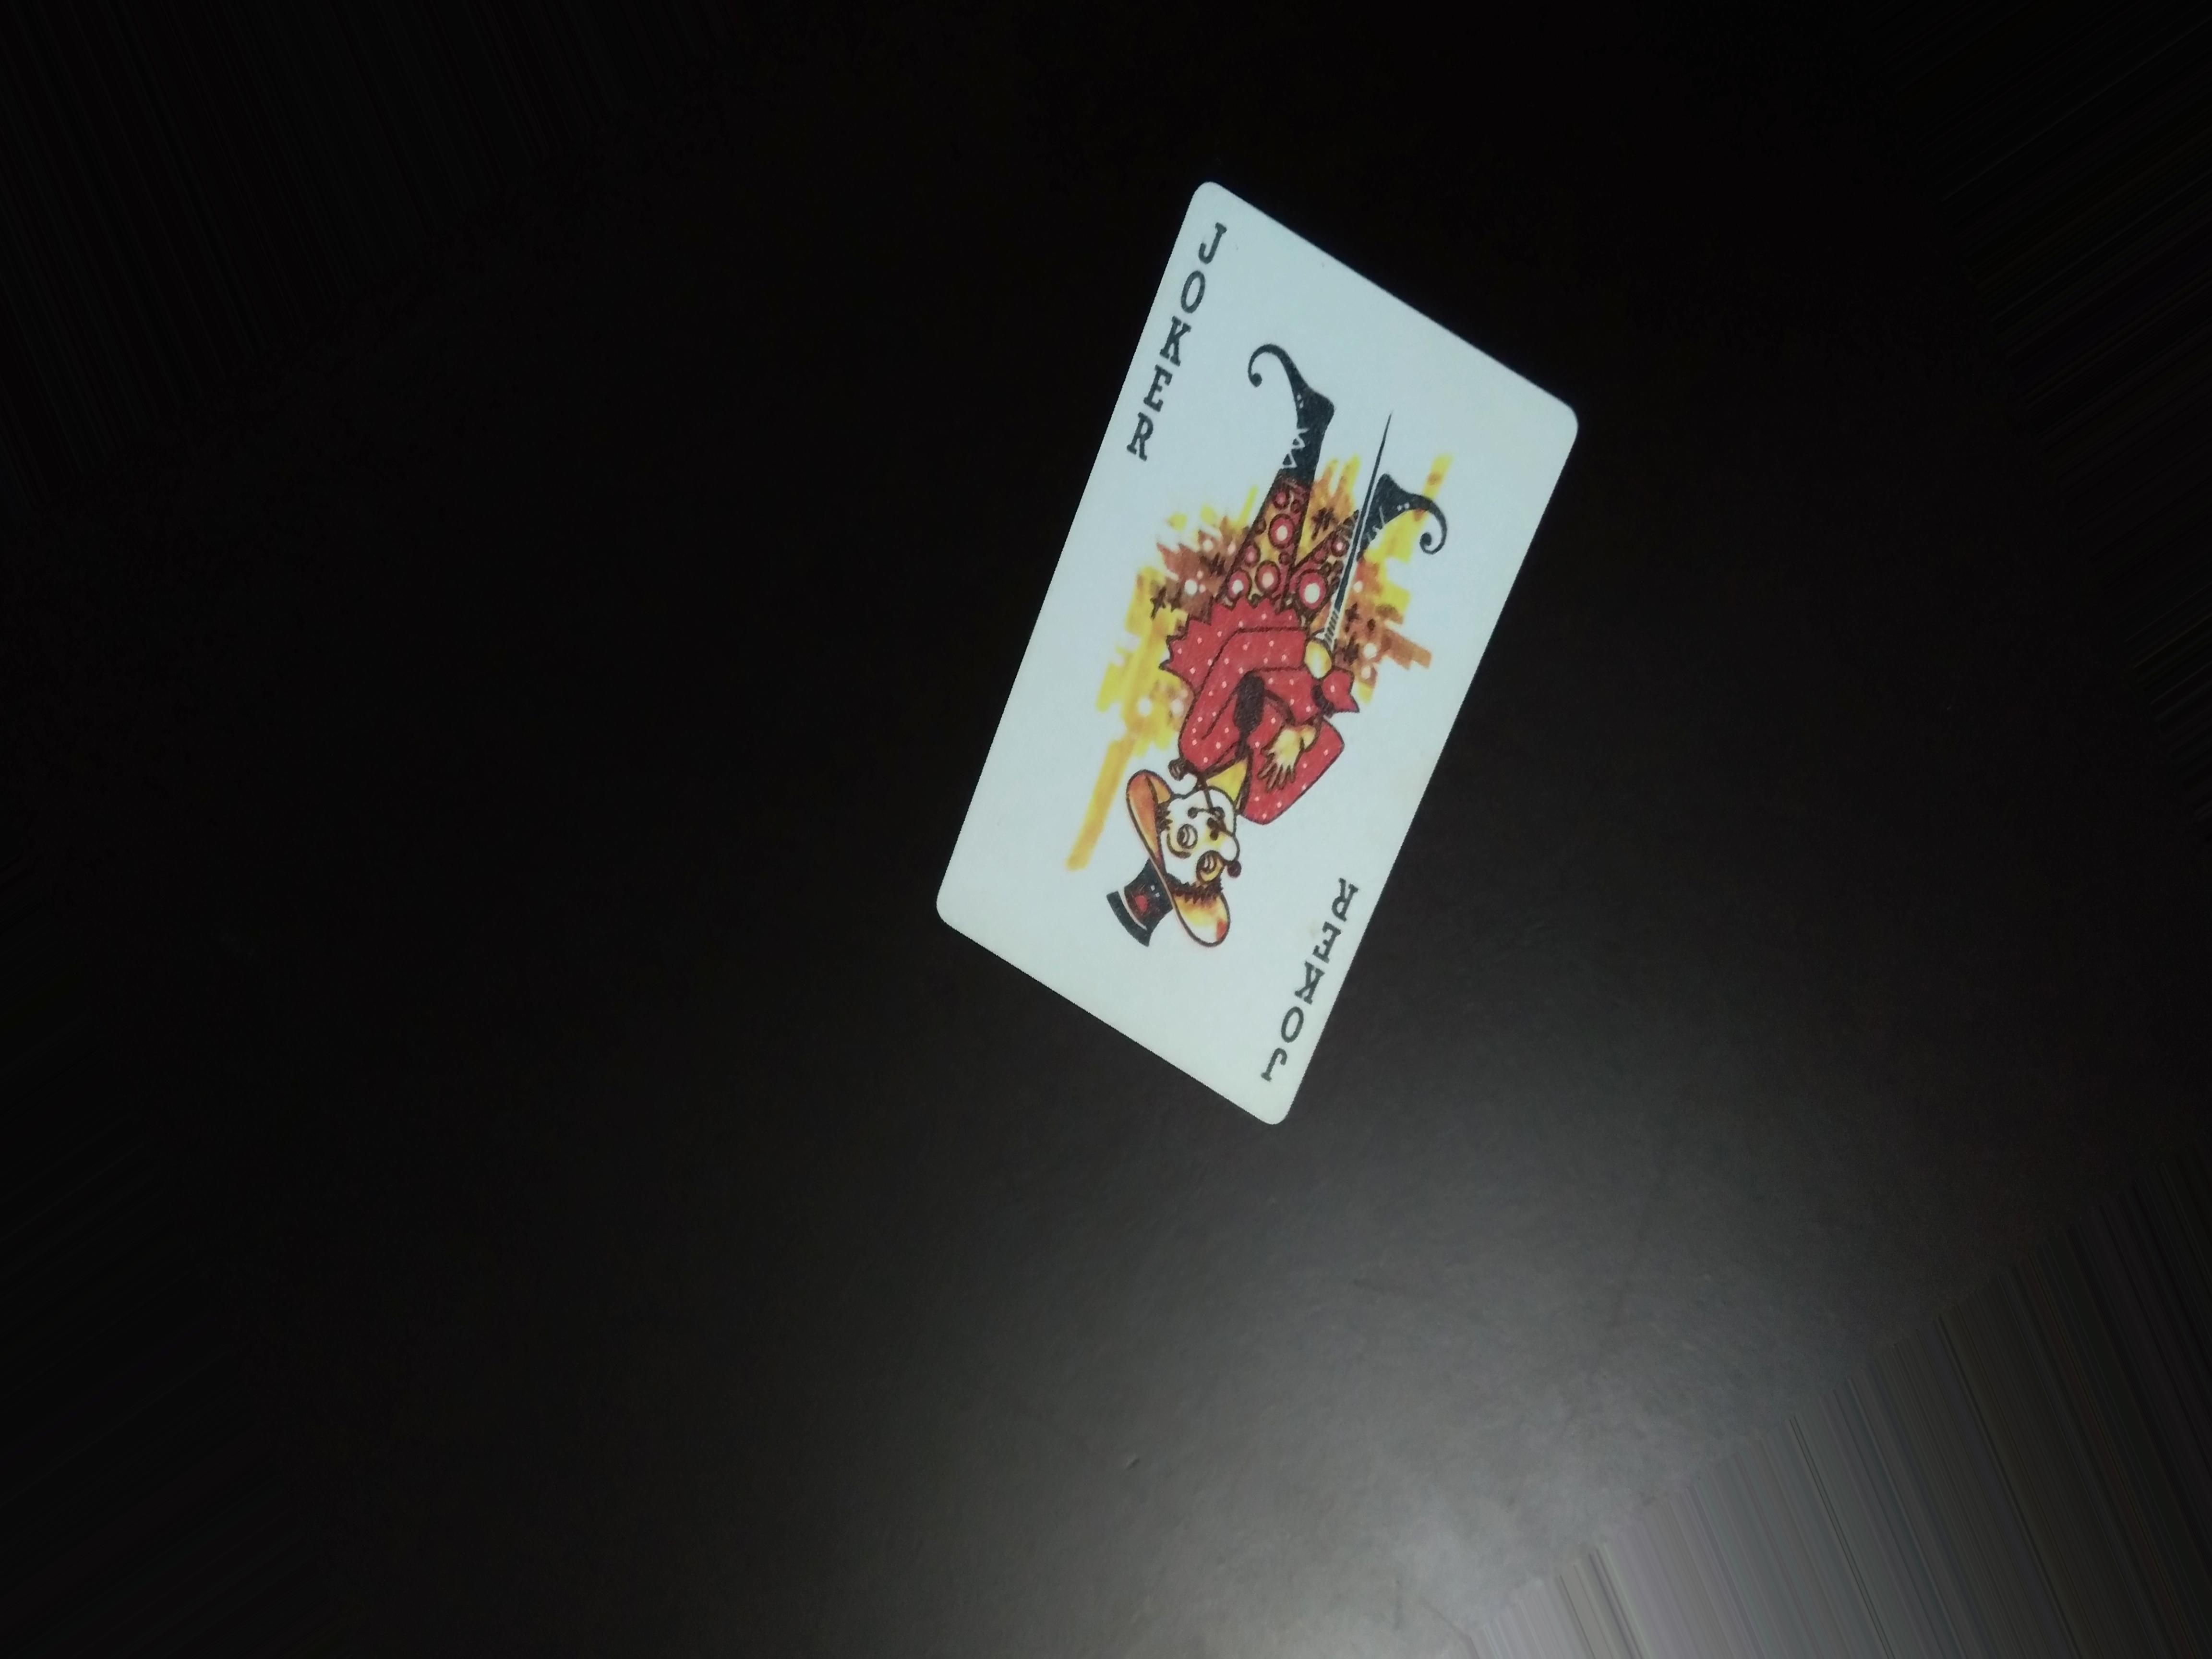JOKER: (1254, 864, 1367, 1100)
